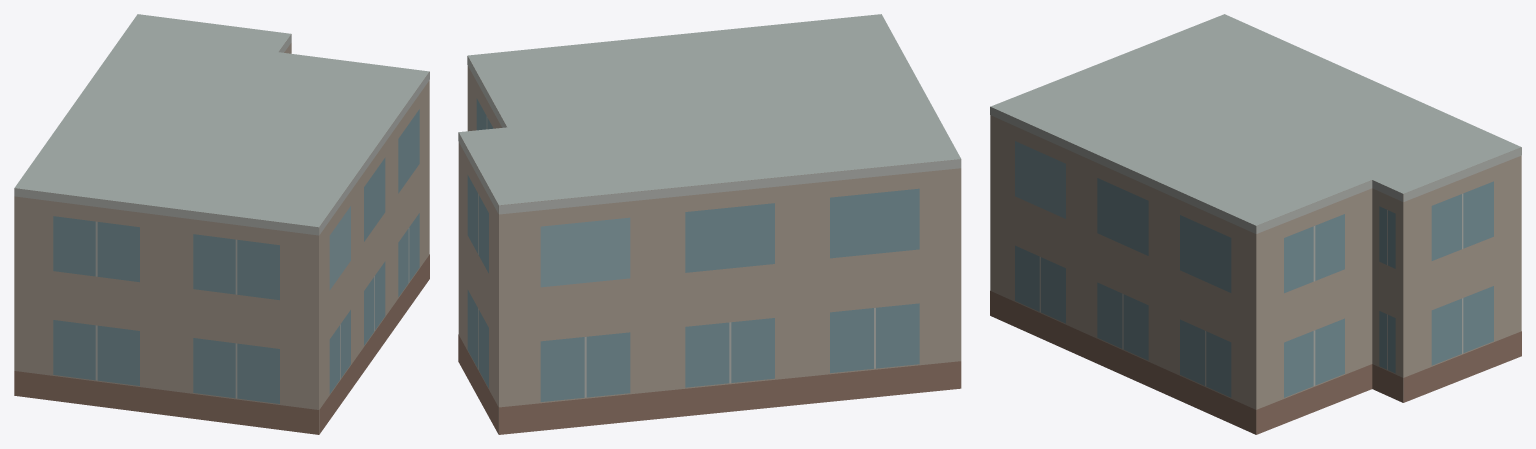
The model's file is survey-upis-32779369.glb.
The picture shows the model from 3 angles, left to right: view 1: azimuth 30°, elevation 25°; view 2: azimuth 150°, elevation 25°; view 3: azimuth 270°, elevation 25°; orthographic projection. The views are drawn at different scales.
Parts seen in each view (by area): view 1: survey-upis-32779369.tmp; view 2: survey-upis-32779369.tmp; view 3: survey-upis-32779369.tmp.
Part boxes in pixels (x1,y1,x2,y2): survey-upis-32779369.tmp: (14, 14, 429, 434); survey-upis-32779369.tmp: (458, 14, 961, 434); survey-upis-32779369.tmp: (990, 14, 1521, 434).
Bounding box in the file's own units: 13.26 × 6.1 × 14.06.
